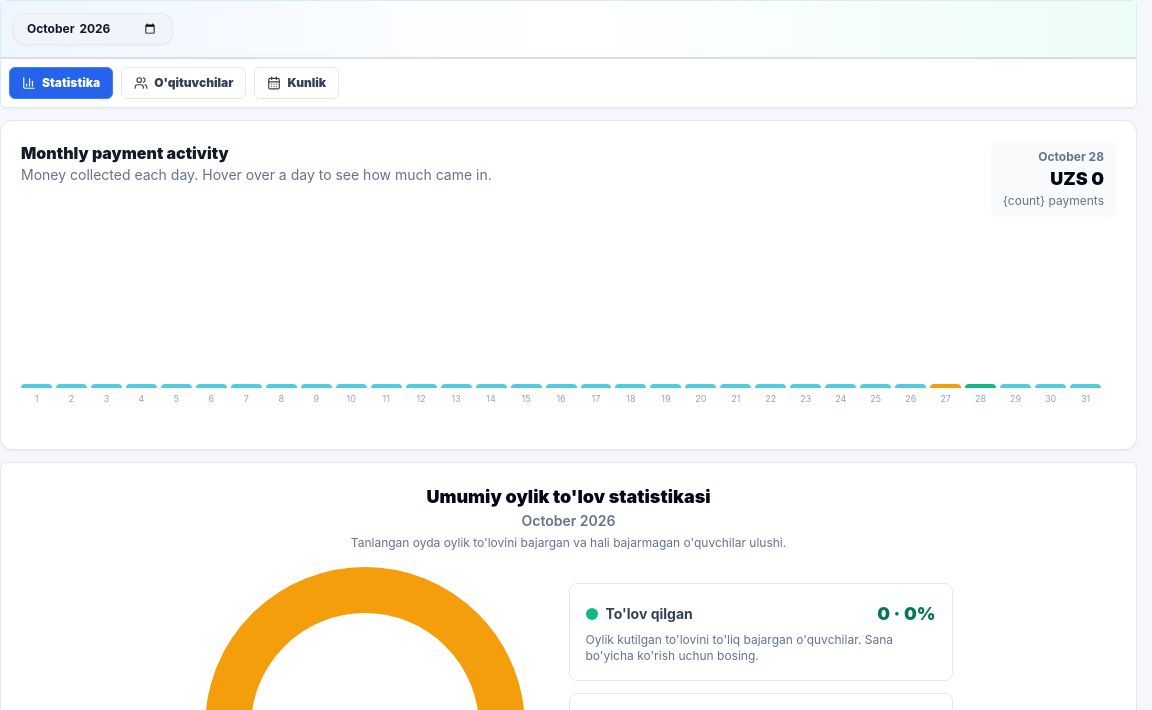
OwnerFinancePanel daily tab › renders the empty state for a month without paid payments
Replace the text in the field with "2026-08" at [93, 29], box top-left (13, 13), bottom-right (173, 45)
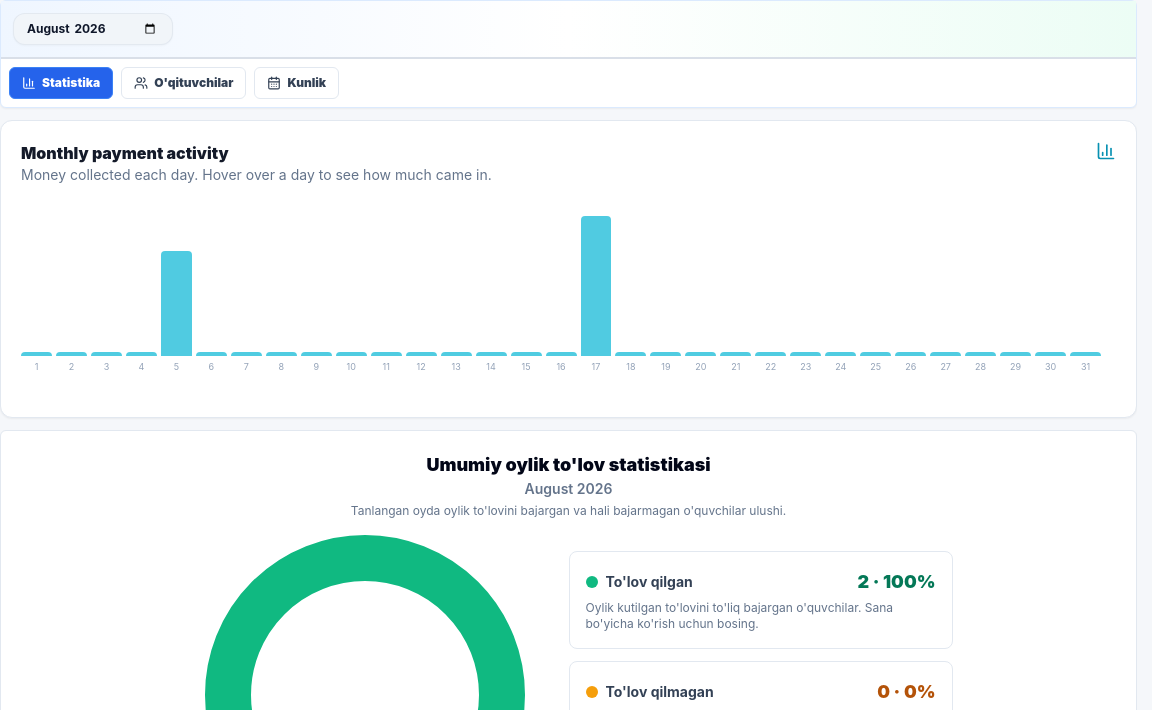
Click the button "Kunlik" at [297, 83], box top-left (254, 67), bottom-right (339, 99)
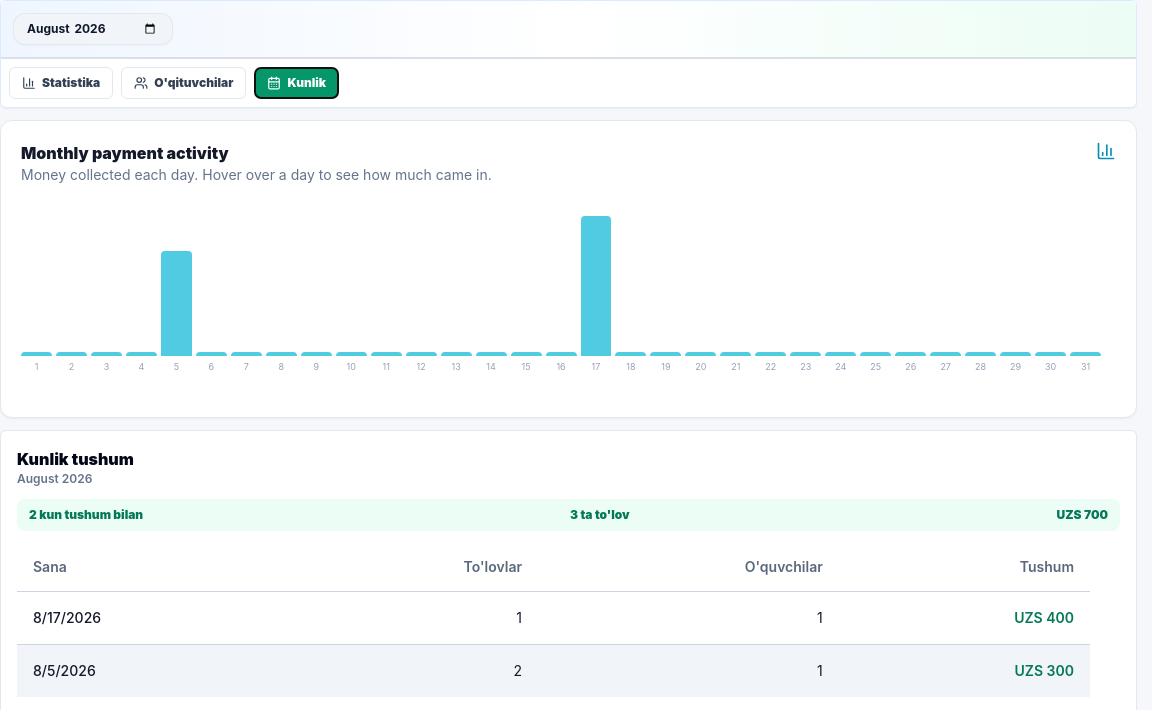
Replace the text in the field with "2026-10" at [93, 29], box top-left (13, 13), bottom-right (173, 45)
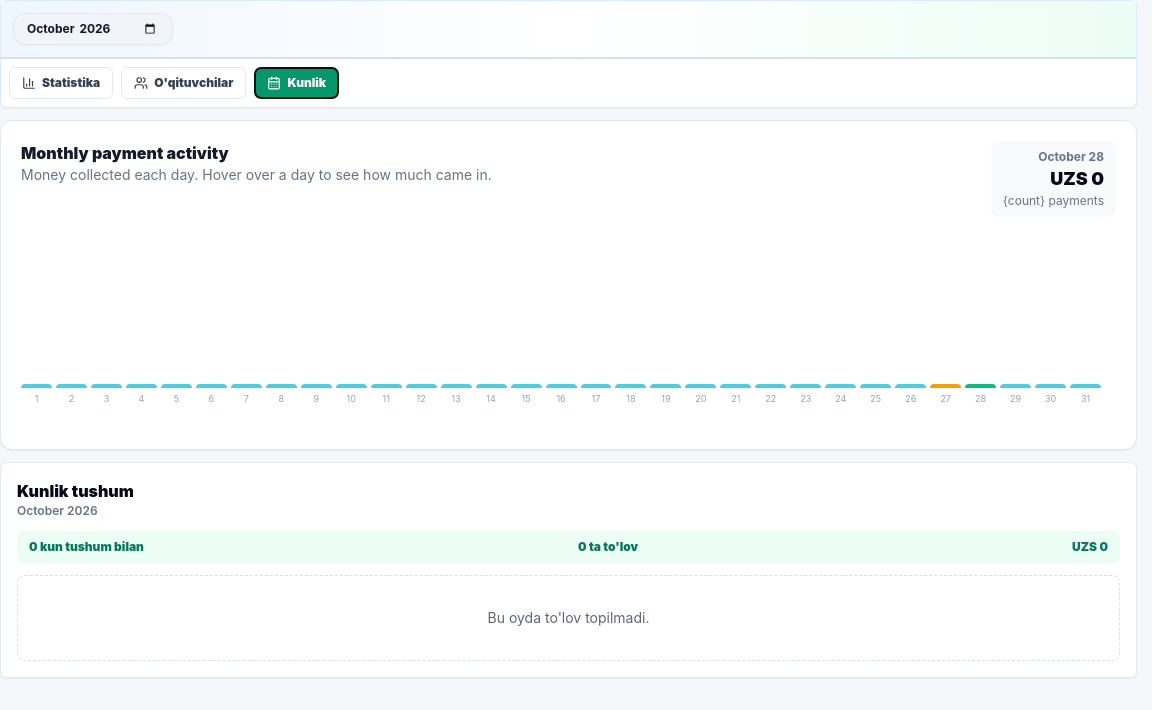
Expected: the text "Bu oyda to'lov topilmadi." is shown, top-left (17, 575), bottom-right (1120, 661)
Expected: the table is gone
